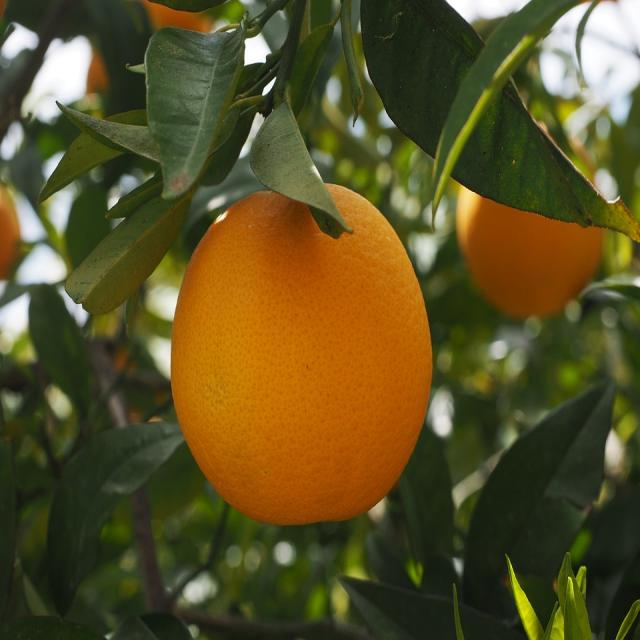orange: (167, 183, 436, 531), (455, 126, 604, 319), (86, 0, 213, 123), (0, 174, 29, 293)
